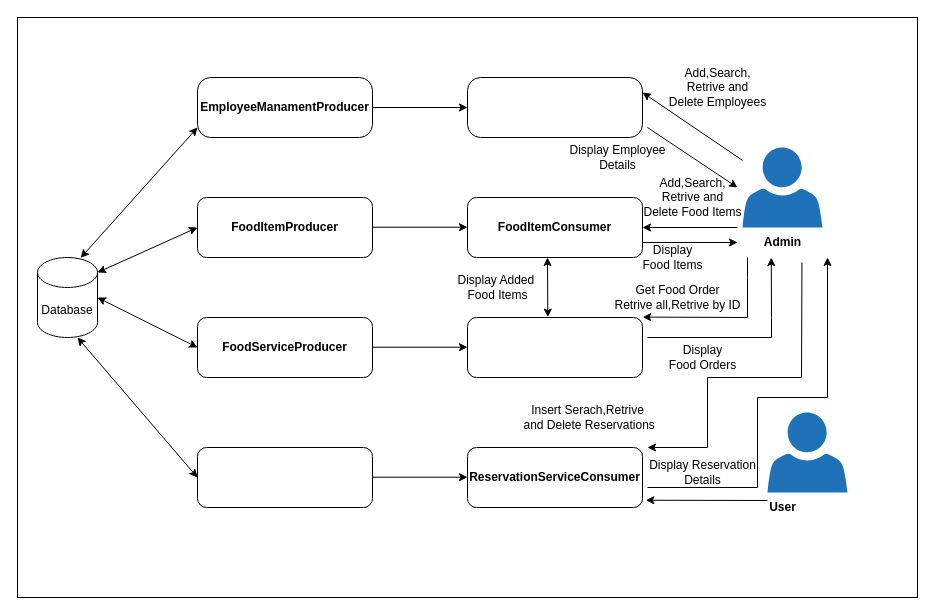
Image size: 935x615. Some labels were removed from this diagram. Here are the shapes that lost their labels. From the top down, the centre of each, then its label:
At (554,107): "EmployeeConsumer".
At (554,347): "FoodServiceConsumer".
At (284,477): "ReservationService Producer".
